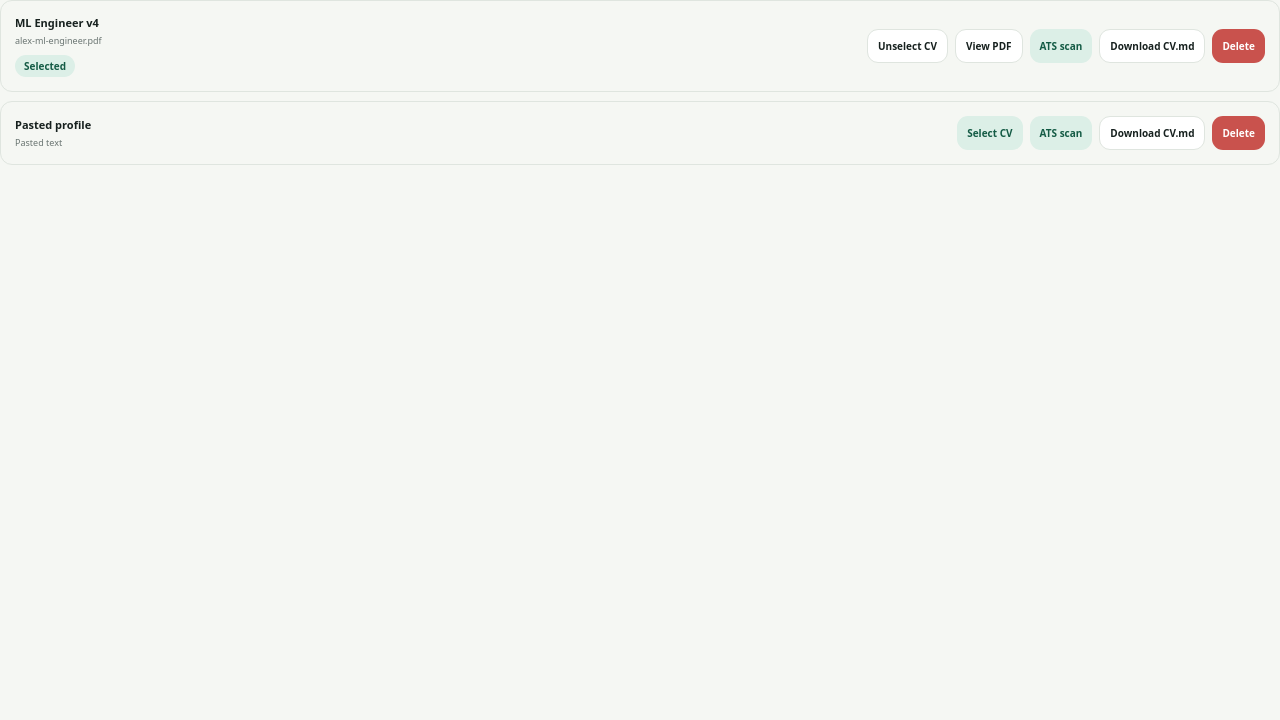
Test: CvLibrary › confirms and deletes a CV while explaining what history remains
What coordinates should you click on to do the following:
click the button with aria-label "Delete CV for Pasted profile"
I would click on:
 (1239, 133)
Its box is [1212,116,1265,150].
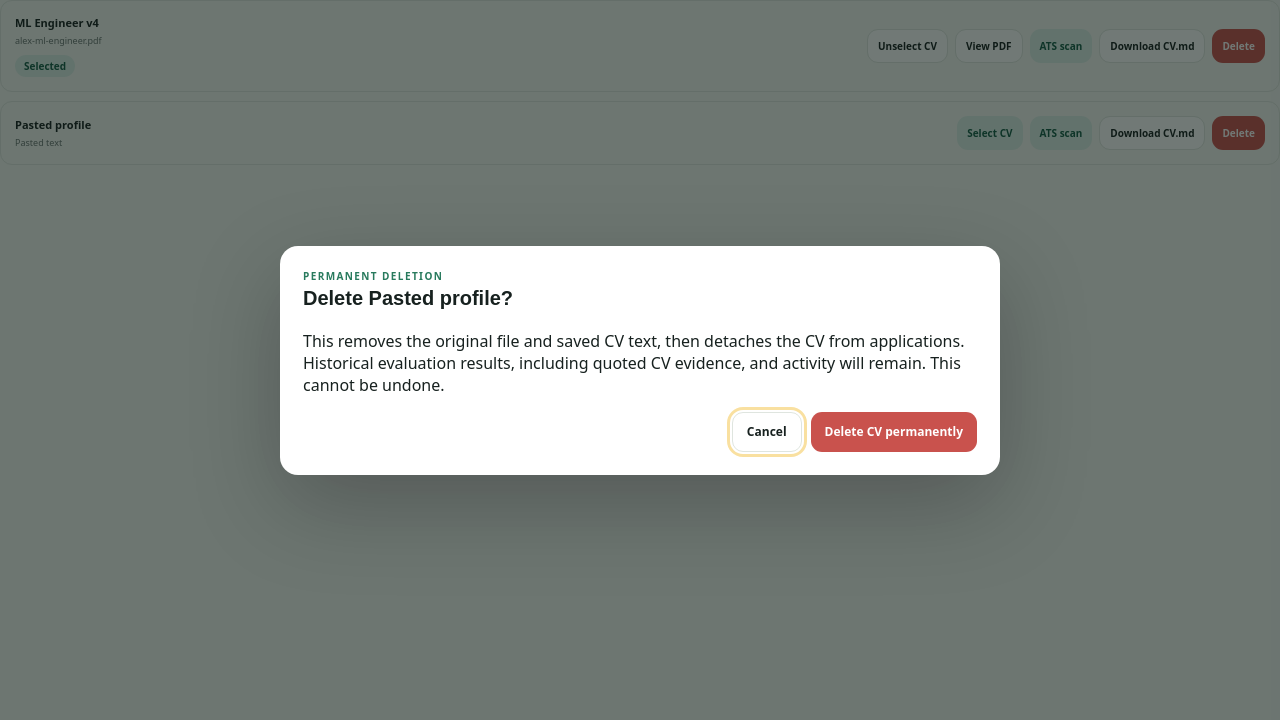
Now the text "Historical evaluation results, including quoted CV evidence, and activity will remain" is shown, box [303,330,964,396]
What coordinates should you click on to do the following:
click the button "Delete CV permanently"
I would click on:
 (894, 432)
Its box is [811,412,977,452].
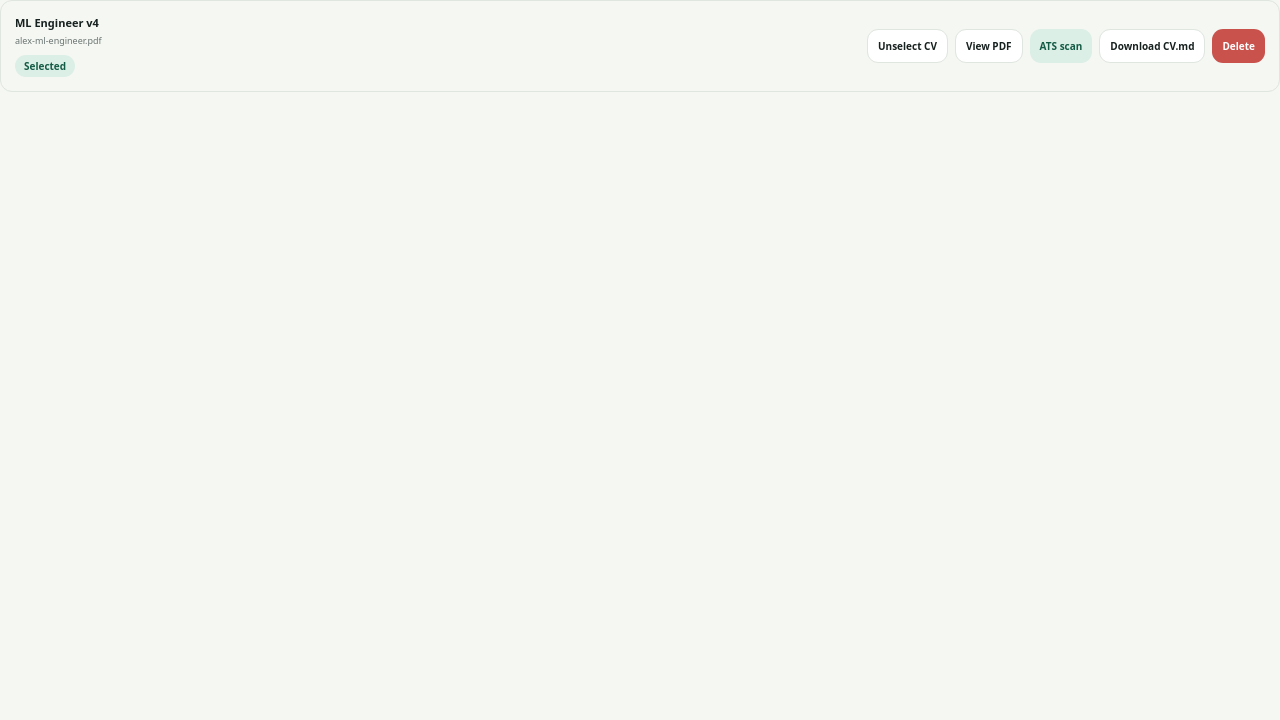
Now the text "Pasted profile" is gone
